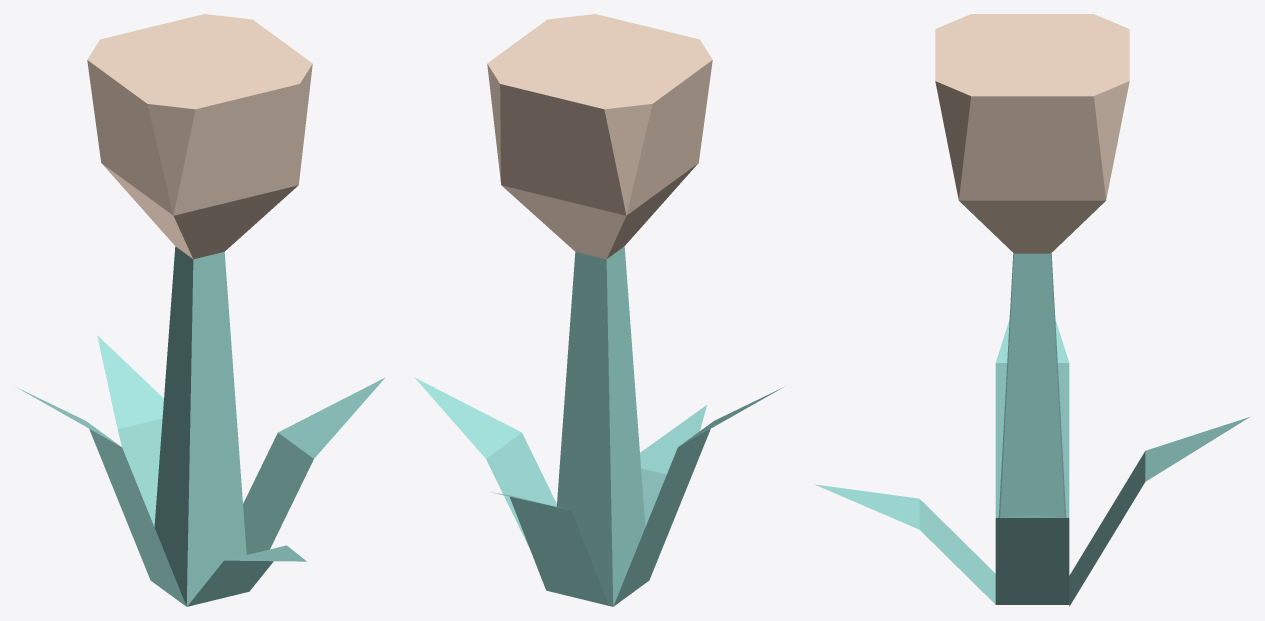
File: flower_beige1.glb
The picture shows the model from 3 angles, left to right: view 1: azimuth 30°, elevation 25°; view 2: azimuth 150°, elevation 25°; view 3: azimuth 270°, elevation 25°; orthographic projection.
Parts seen in each view (by area): view 1: flower_beige1; view 2: flower_beige1; view 3: flower_beige1.
Boxes of the visible parts, box(x1,y1,x2,y2) form: flower_beige1: box(16, 14, 385, 606); flower_beige1: box(414, 14, 783, 606); flower_beige1: box(814, 14, 1250, 606).
Size of the model in its own units: 0.2076 by 0.28 by 0.2076.
